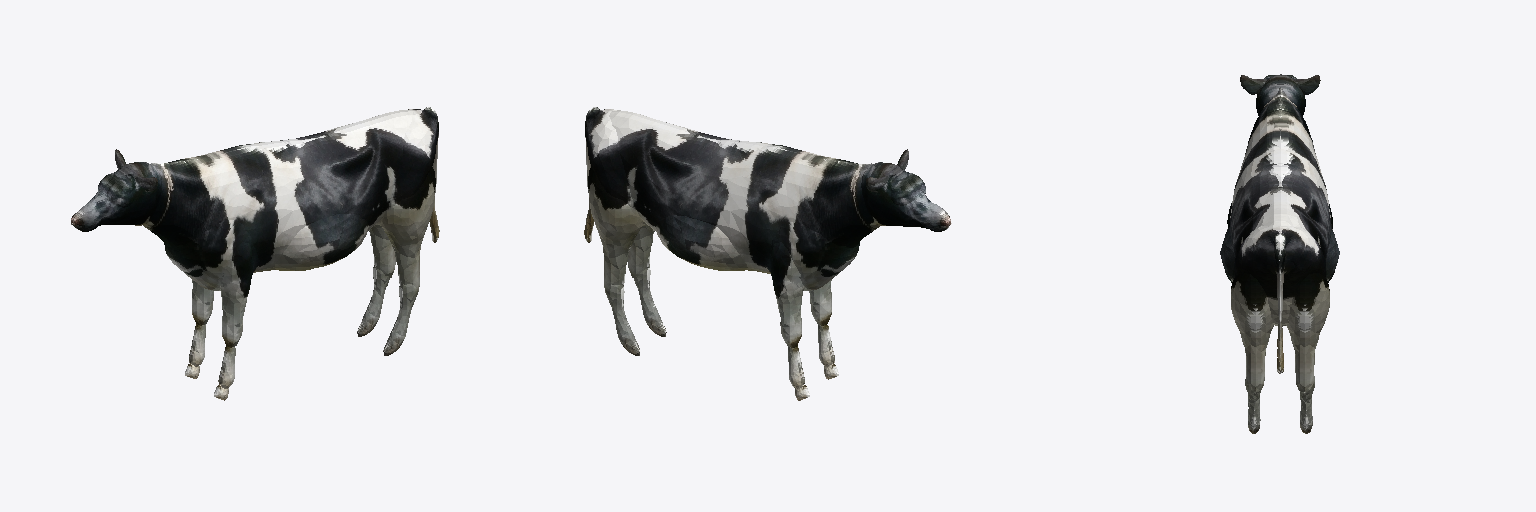
The picture shows the model from 3 angles: view 1: azimuth 30°, elevation 25°; view 2: azimuth 150°, elevation 25°; view 3: azimuth 270°, elevation 25°; orthographic projection.
Size of the model in its own units: 1.36 by 0.8647 by 0.3825.
1 materials, 1 textured.